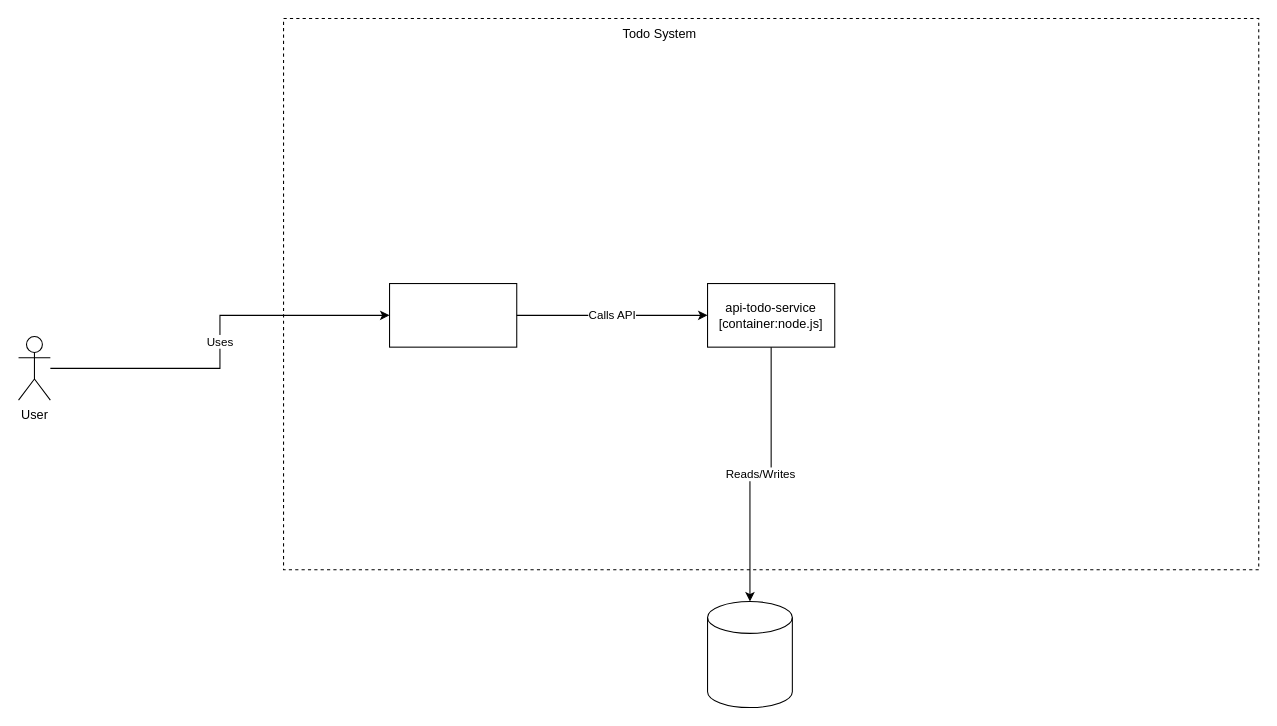
Some shapes in this 1277 by 726 pixel diagram are drawn without their labels. Here are the shapes that lost their labels. From the top down, the centre of each, then its label:
At pixel 452 314: "todo-web-client [container:node.js]".
At pixel 749 654: "Todo DB [Postgresql]".
